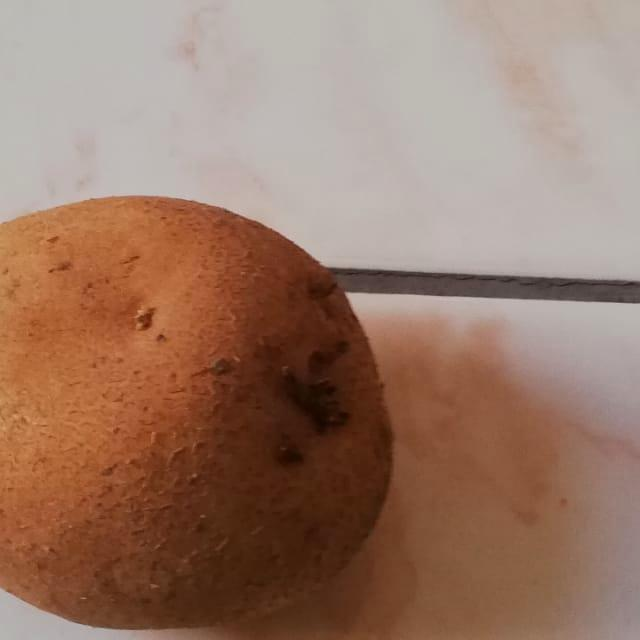potato: (0, 159, 422, 640)
